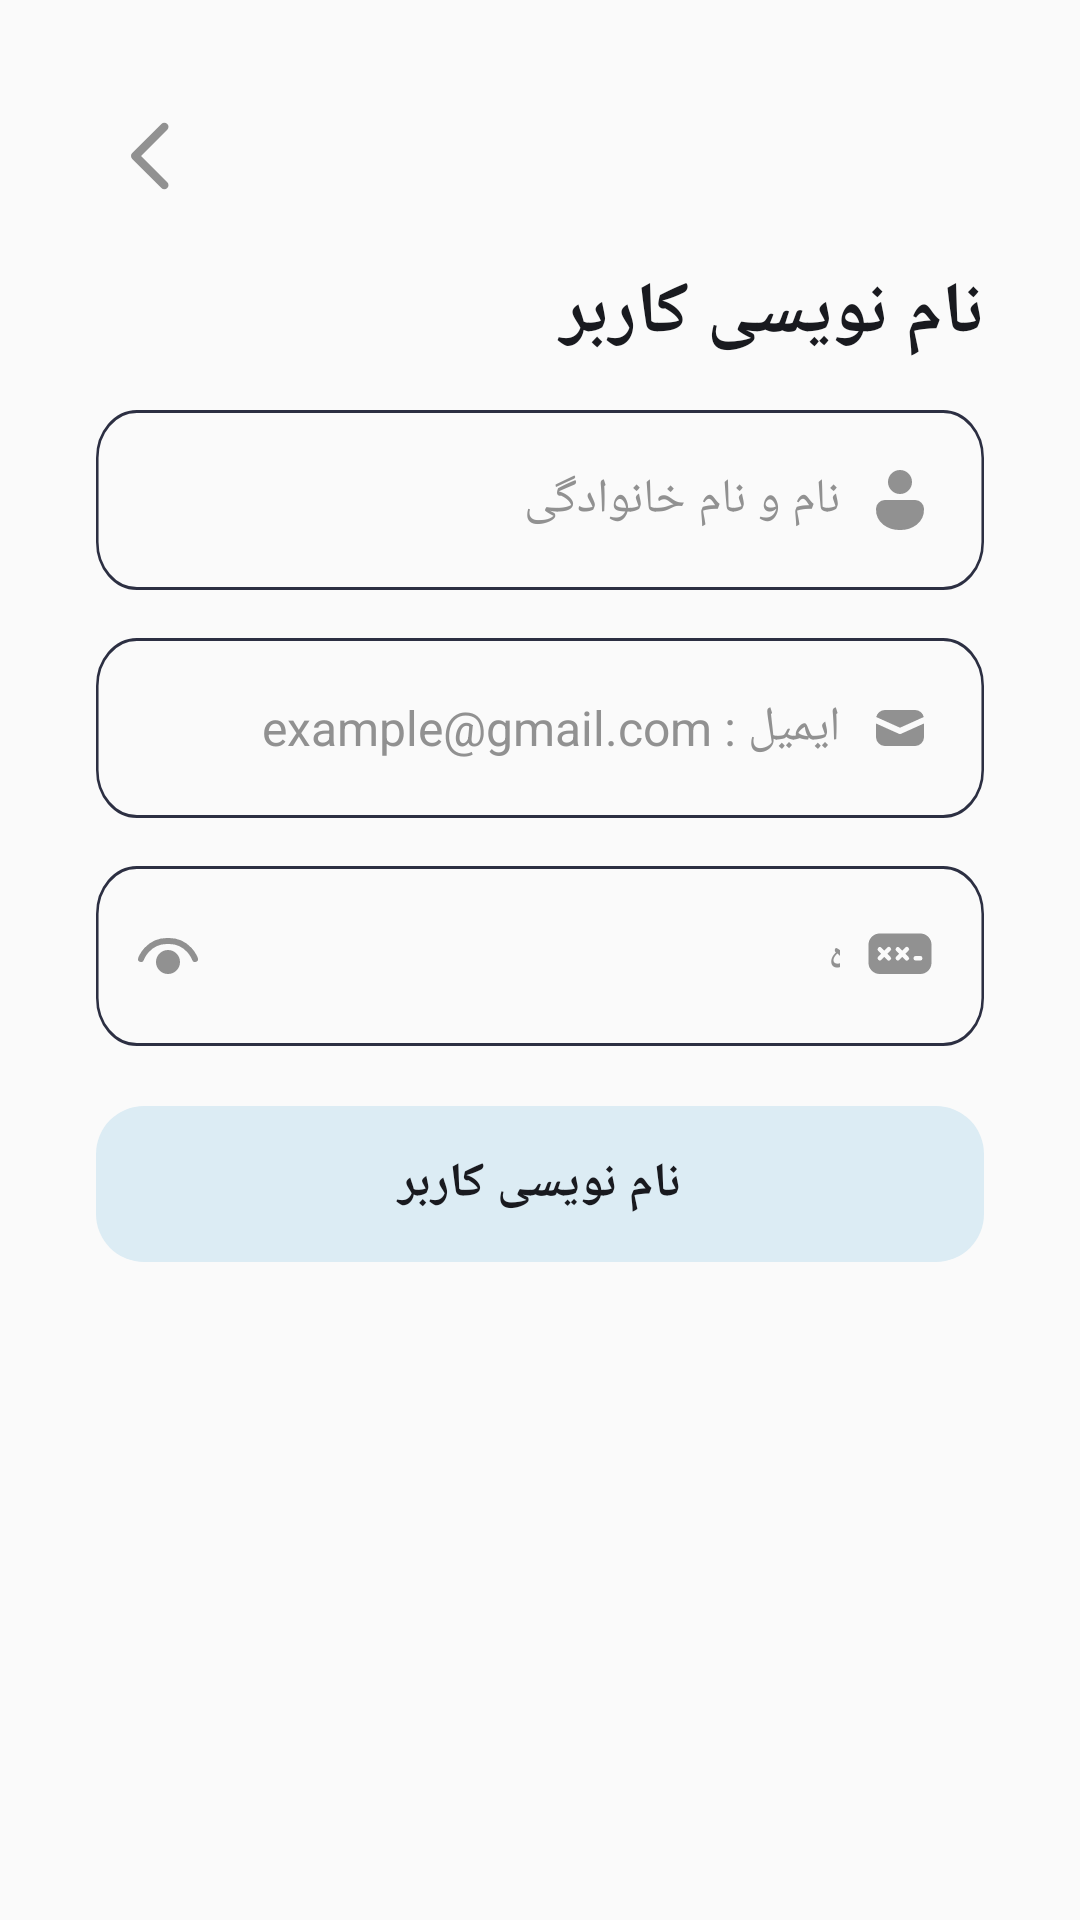

Icons on this 1080x1920 Android screen, each with the point to tap as (x=x, y=y):
back: (x=150, y=156)
